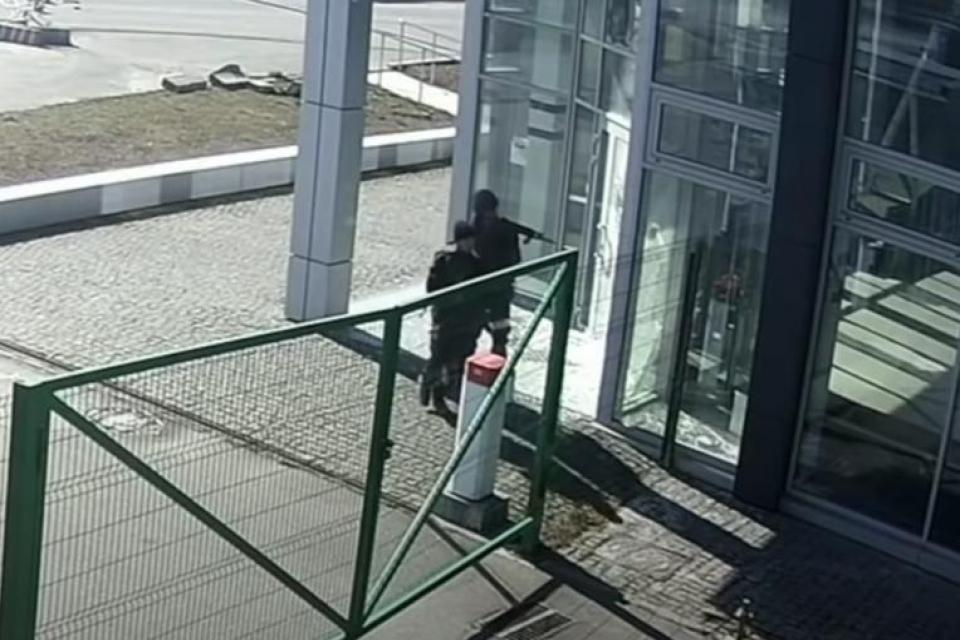non-violence: (417, 218, 495, 415), (465, 189, 523, 358)
weapon: (501, 214, 558, 250)
